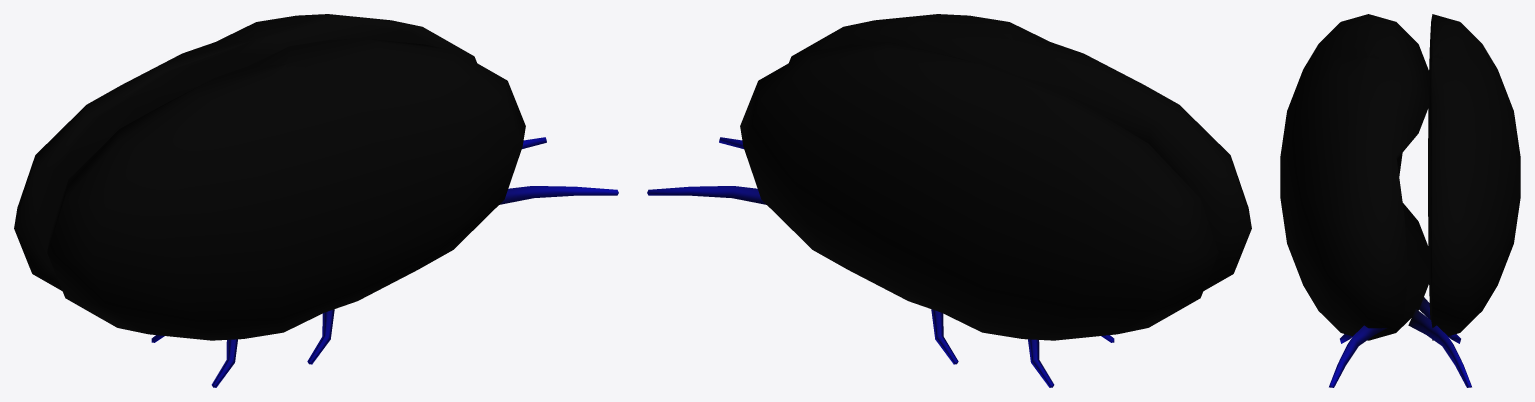
The model's file is micro_ostracod.glb.
3 renders of one model, left to right at view 1: azimuth 30°, elevation 25°; view 2: azimuth 150°, elevation 25°; view 3: azimuth 270°, elevation 25°, orthographic. The views are drawn at different scales.
Visible parts, largest first — view 1: Body, Legs; view 2: Body, Legs; view 3: Body, Legs.
Part boxes in pixels (bbox=[...]): Body: bbox=[14, 14, 525, 340]; Legs: bbox=[151, 137, 618, 387]; Body: bbox=[740, 14, 1251, 340]; Legs: bbox=[647, 137, 1114, 387]; Body: bbox=[1280, 14, 1520, 340]; Legs: bbox=[1329, 297, 1471, 387].
Bounding box in the file's own units: 1.15 × 0.5846 × 0.4515.
Materials: 1 (1 with a texture image).
